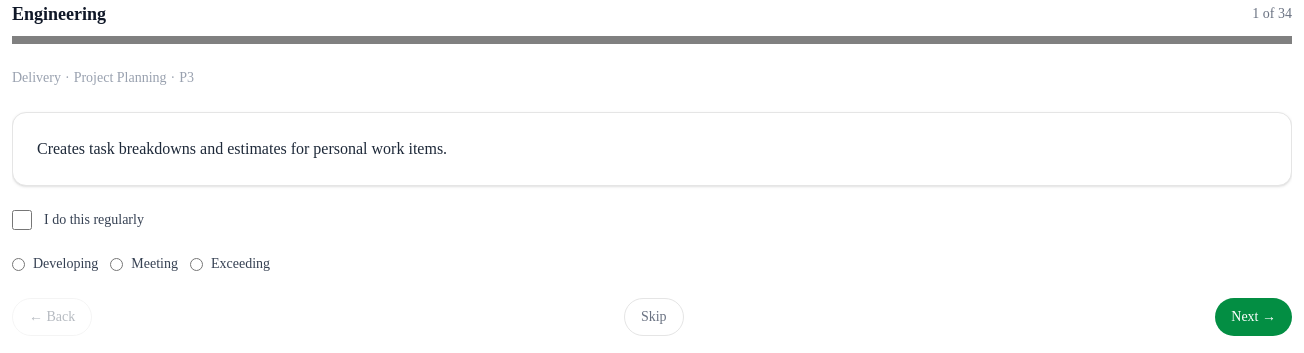
Test: B-7: Swipe gesture — left advances, right goes back › swipe right (delta > 60px) from index>0 goes back
Click the button "Next →": (1254, 317) [1215,298,1292,336]
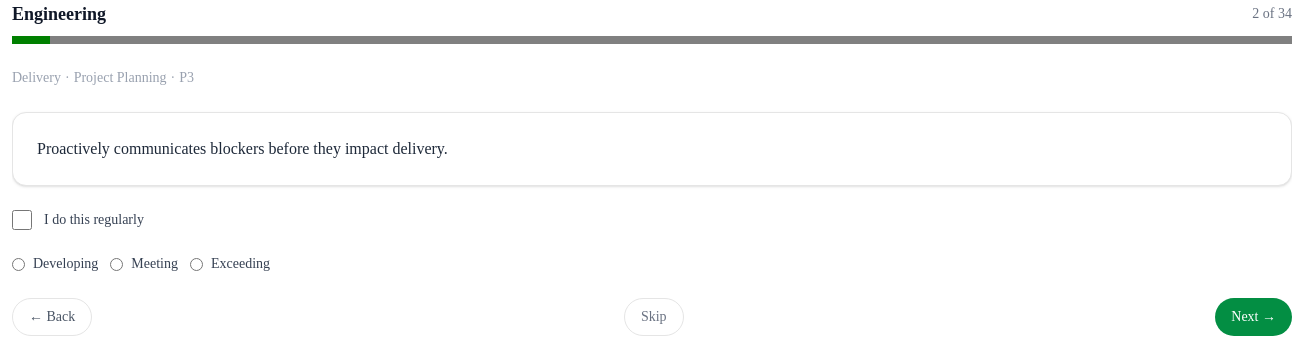
Check: the text "2 of 34" is shown, box [1252,4,1292,24]
Press the mouse on the element that starts with "Engineering": (652, 168) [12,0,1292,336]
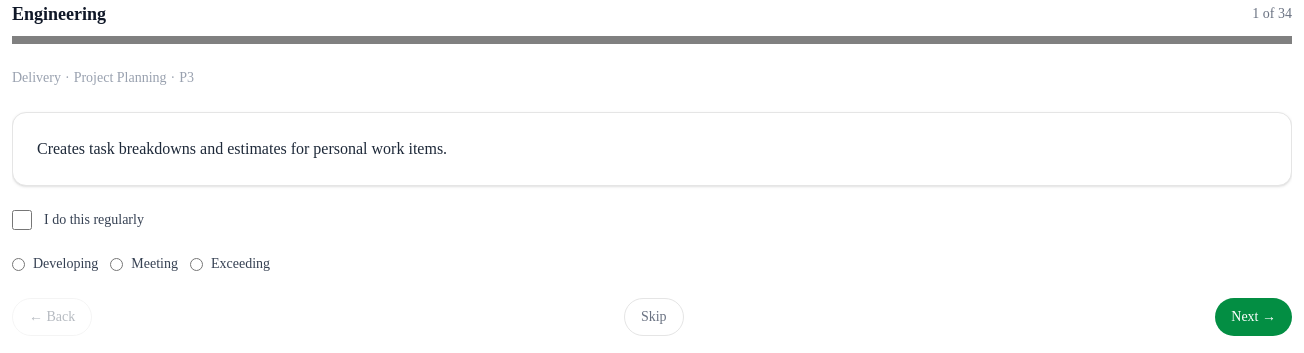
Check: the text "1 of 34" is shown, box [1252,4,1292,24]
